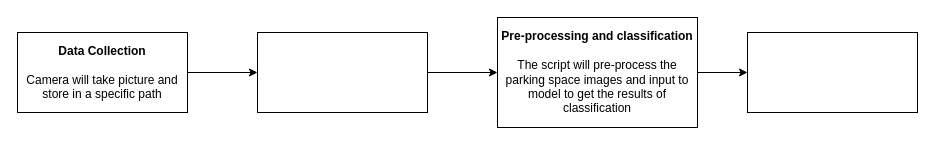
This 935x145 diagram has some shape labels left out. The centre of each missing label's shape, as x and y in pixels:
Image segmentation The script will segment parking spaces from the image: the point at 342,72
Result Output The results will be output to MQTT server: the point at 832,72
